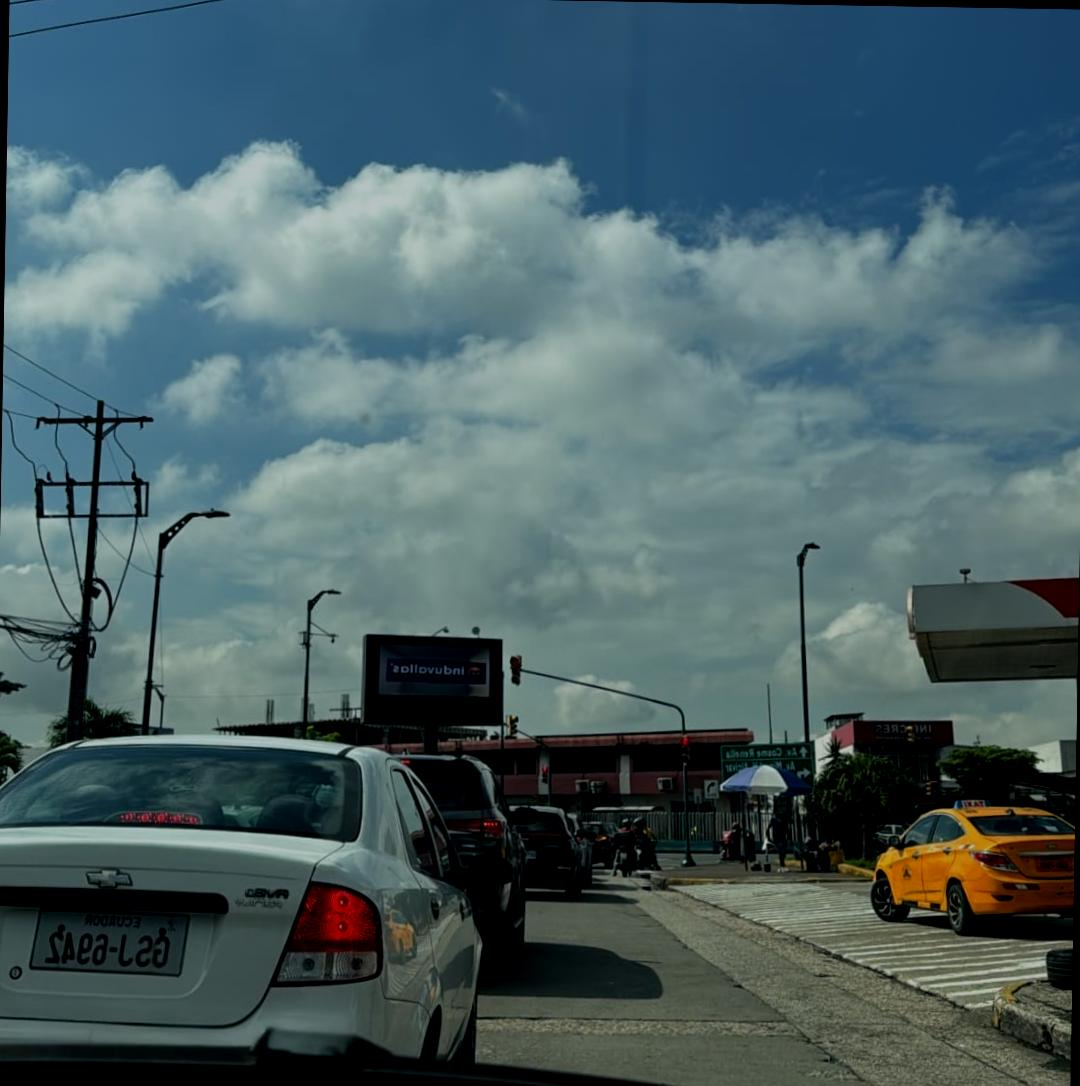license_plate: (28, 908, 192, 976), (1036, 856, 1072, 870)
